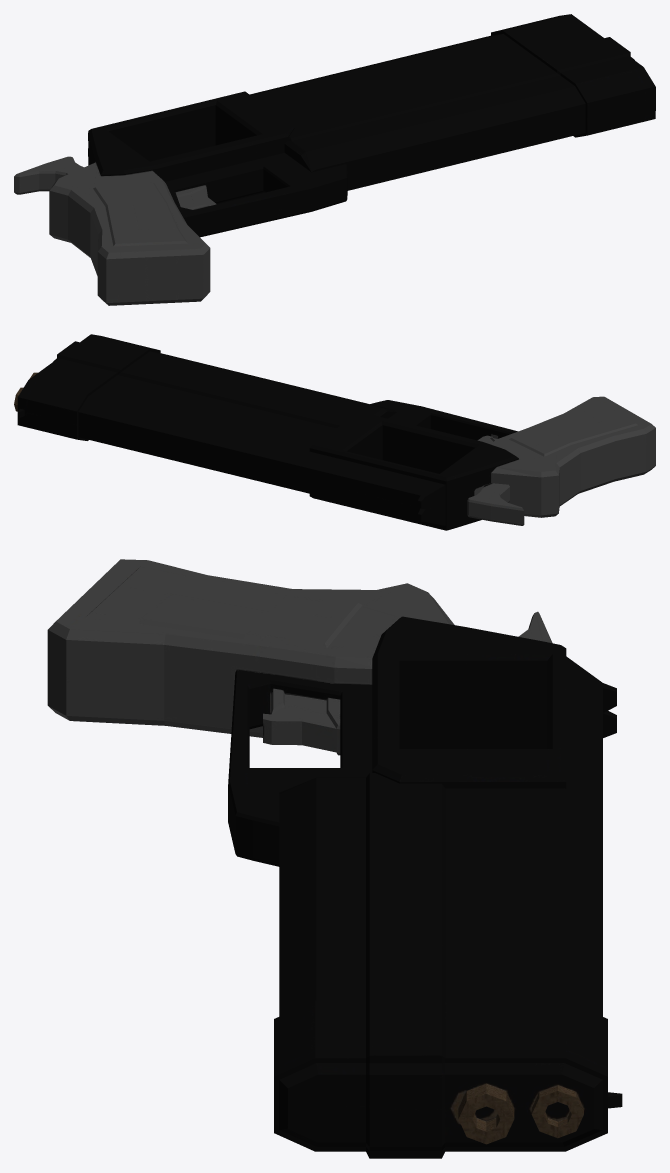
File: revolverA_new.glb
The picture shows the model from 3 angles, top to bottom: view 1: azimuth 30°, elevation 25°; view 2: azimuth 150°, elevation 25°; view 3: azimuth 270°, elevation 25°; orthographic projection. The views are drawn at different scales.
Parts seen in each view (by area): view 1: 1; view 2: 1; view 3: 1.
Part boxes in pixels (x1=…): 1: x1=14, y1=14, x2=655, y2=305; 1: x1=14, y1=334, x2=655, y2=530; 1: x1=47, y1=559, x2=622, y2=1158.
Size of the model in its own units: 4.56 by 0.4364 by 2.14.
Materials: 1 (1 with a texture image).
